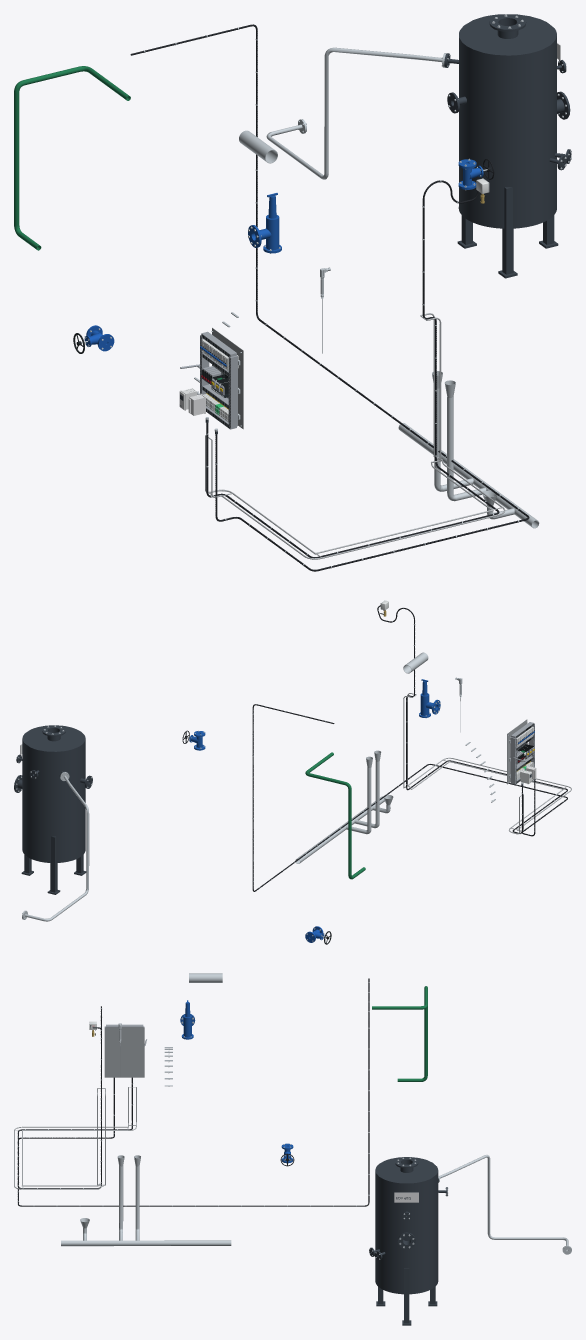
File: s4000-2-BNcxvvfI.glb
3 renders of one model, top to bottom at view 1: azimuth 30°, elevation 25°; view 2: azimuth 150°, elevation 25°; view 3: azimuth 270°, elevation 25°, orthographic. The views are drawn at different scales.
Visible parts, largest first — view 1: separator_bdv60_5 / dark, cabinet_interior / cabinet_interior_0.npz, local_open_drains / steel, cables / zinc, mod_direct_drive_cable / black, wiring_pressure_switch_2 / black, trap_gap_to_bdv / steel, from_economizer / green, safety_1 / blue; view 2: separator_bdv60_5 / dark, local_open_drains / steel, cabinet_interior / cabinet_interior_0.npz, mod_direct_drive_cable / black, cables / zinc, wiring_pressure_switch_2 / black, trap_gap_to_bdv / steel, from_economizer / green, safety_1 / blue; view 3: separator_bdv60_5 / dark, cabinet_interior / cabinet_interior_0.npz, local_open_drains / steel, mod_direct_drive_cable / black, cables / zinc, trap_gap_to_bdv / steel, from_economizer / green, wiring_pressure_switch_2 / black.
Boxes of the visible parts, box(x1,y1,x2,y2) form: separator_bdv60_5 / dark: box(444, 14, 571, 278); cabinet_interior / cabinet_interior_0.npz: box(180, 327, 243, 429); local_open_drains / steel: box(398, 371, 539, 528); cables / zinc: box(205, 313, 505, 559); mod_direct_drive_cable / black: box(130, 24, 529, 571); wiring_pressure_switch_2 / black: box(206, 180, 499, 558); trap_gap_to_bdv / steel: box(266, 47, 446, 179); from_economizer / green: box(14, 66, 130, 250); safety_1 / blue: box(248, 193, 281, 253); separator_bdv60_5 / dark: box(14, 725, 92, 894); local_open_drains / steel: box(295, 750, 393, 863); cabinet_interior / cabinet_interior_0.npz: box(507, 719, 534, 784); mod_direct_drive_cable / black: box(252, 704, 567, 891); cables / zinc: box(403, 693, 571, 834); wiring_pressure_switch_2 / black: box(377, 605, 567, 833); trap_gap_to_bdv / steel: box(22, 772, 89, 921); from_economizer / green: box(305, 752, 365, 879); safety_1 / blue: box(419, 679, 440, 717); separator_bdv60_5 / dark: box(369, 1157, 447, 1325); cabinet_interior / cabinet_interior_0.npz: box(104, 1024, 146, 1077); local_open_drains / steel: box(61, 1155, 231, 1246); mod_direct_drive_cable / black: box(17, 978, 369, 1206); cables / zinc: box(14, 1087, 136, 1189); trap_gap_to_bdv / steel: box(438, 1155, 571, 1254); from_economizer / green: box(372, 986, 427, 1081); wiring_pressure_switch_2 / black: box(17, 1006, 132, 1188).
Size of the model in its own units: 5.31 by 2.96 by 6.78.
